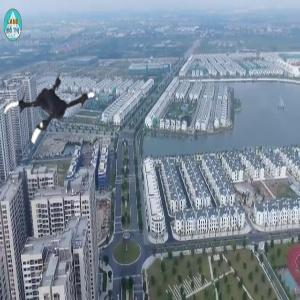drone: (2, 65, 100, 163)
